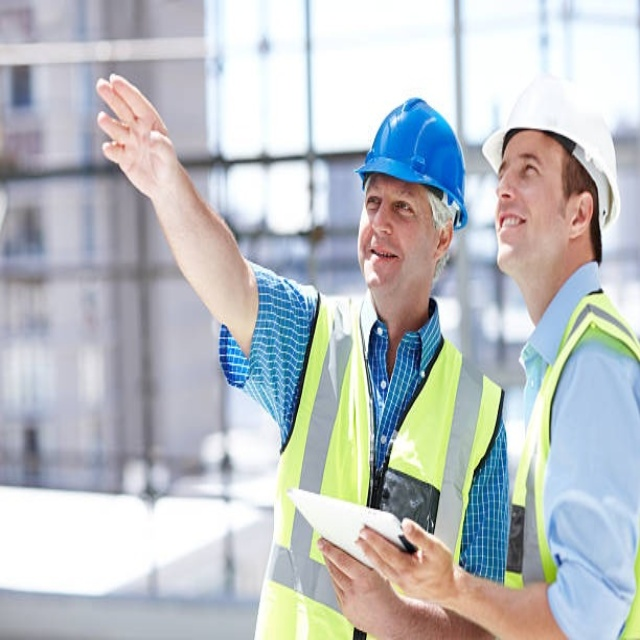Sin_gafas: (496, 144, 558, 187), (366, 184, 426, 226)
Sin_guantes: (95, 72, 178, 200), (354, 516, 463, 609), (318, 535, 389, 626)
Sin_mascara: (496, 204, 535, 257), (363, 238, 399, 285)
